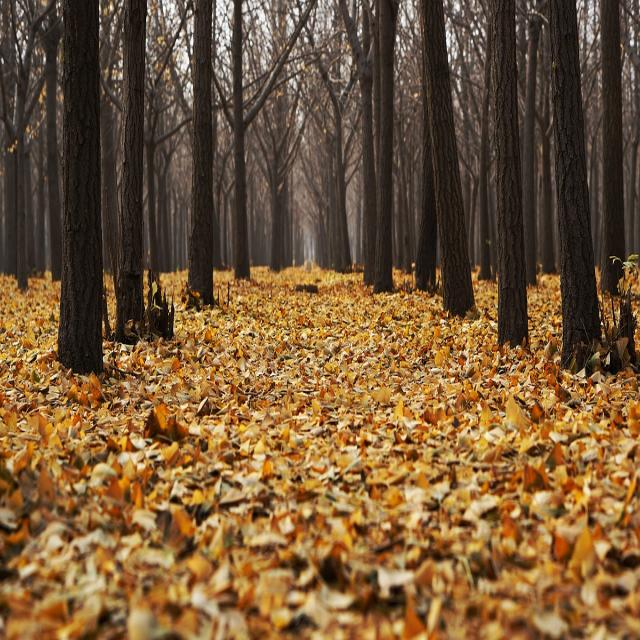organic waste: (216, 464, 467, 640), (1, 380, 188, 612), (239, 305, 443, 451), (457, 351, 535, 455)
